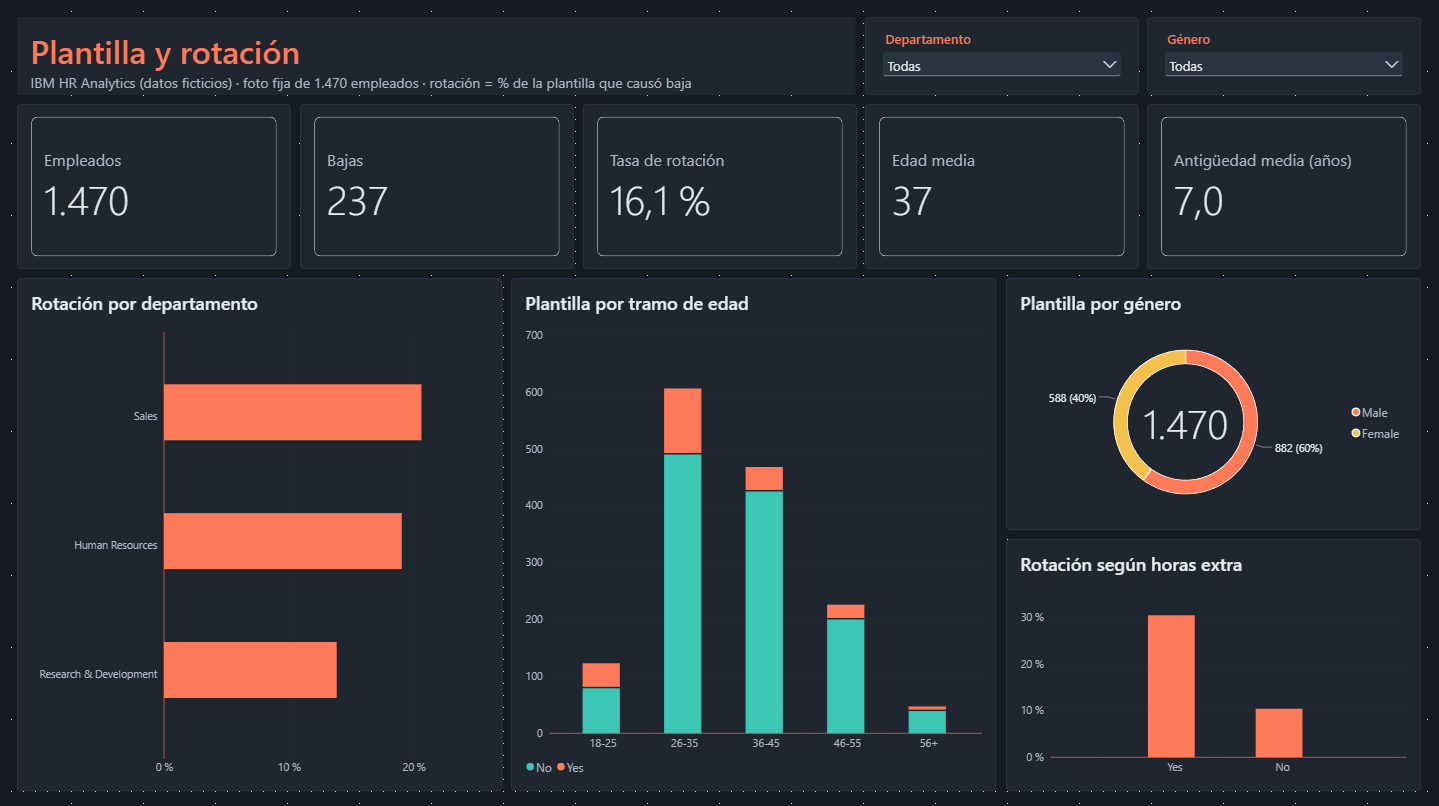

The page's visual inventory and layout, read from the dashboard file:
{"tool":"powerbi","page":{"name":"Plantilla Rotacion","canvas":[1920,1080],"ordinal":0},"visuals":[{"type":"slicer","fields":{"Values":["fEmpleados.Department"]},"box":[1154,24,365,104],"z":0},{"type":"slicer","fields":{"Values":["fEmpleados.Gender"]},"box":[1531,24,365,104],"z":1},{"type":"cardVisual","fields":{"Data":["Medidas.Empleados"]},"box":[24,140,365,220],"z":2},{"type":"cardVisual","fields":{"Data":["Medidas.Bajas"]},"box":[401,140,365,220],"z":3},{"type":"cardVisual","fields":{"Data":["Medidas.Tasa Rotación"]},"box":[778,140,365,220],"z":4},{"type":"cardVisual","fields":{"Data":["Medidas.Edad Media"]},"box":[1154,140,365,220],"z":5},{"type":"cardVisual","fields":{"Data":["Medidas.Antigüedad Media"]},"box":[1531,140,365,220],"z":6},{"type":"clusteredBarChart","title":"Rotación por departamento","fields":{"Category":["fEmpleados.Department"],"Y":["Medidas.Tasa Rotación"]},"box":[24,372,647,684],"z":7},{"type":"columnChart","title":"Plantilla por tramo de edad","fields":{"Category":["fEmpleados.Tramo edad"],"Series":["fEmpleados.Attrition"],"Y":["Medidas.Empleados"]},"box":[683,372,647,684],"z":8},{"type":"columnChart","title":"Rotación según horas extra","fields":{"Category":["fEmpleados.OverTime"],"Y":["Medidas.Tasa Rotación"]},"box":[1343,720,553,336],"z":9},{"type":"donutChart","title":"Plantilla por género","fields":{"Category":["fEmpleados.Gender"],"Y":["Medidas.Empleados"]},"box":[1343,372,553,336],"z":10},{"type":"textbox","title":"Plantilla y rotación","box":[24,24,1118,104],"z":11}]}

Visuals, with their boxes in screenshot pixels (x1, y1, x2, y2), scaled from the page's 1920x1080 canvas onto the 1439x806 screenshot:
slicer - fEmpleados.Department: Rect(865, 18, 1138, 96)
slicer - fEmpleados.Gender: Rect(1147, 18, 1421, 96)
cardVisual - Medidas.Empleados: Rect(18, 104, 292, 269)
cardVisual - Medidas.Bajas: Rect(301, 104, 574, 269)
cardVisual - Medidas.Tasa Rotación: Rect(583, 104, 857, 269)
cardVisual - Medidas.Edad Media: Rect(865, 104, 1138, 269)
cardVisual - Medidas.Antigüedad Media: Rect(1147, 104, 1421, 269)
"Rotación por departamento" clusteredBarChart: Rect(18, 278, 503, 788)
"Plantilla por tramo de edad" columnChart: Rect(512, 278, 997, 788)
"Rotación según horas extra" columnChart: Rect(1007, 537, 1421, 788)
"Plantilla por género" donutChart: Rect(1007, 278, 1421, 528)
"Plantilla y rotación" textbox: Rect(18, 18, 856, 96)
